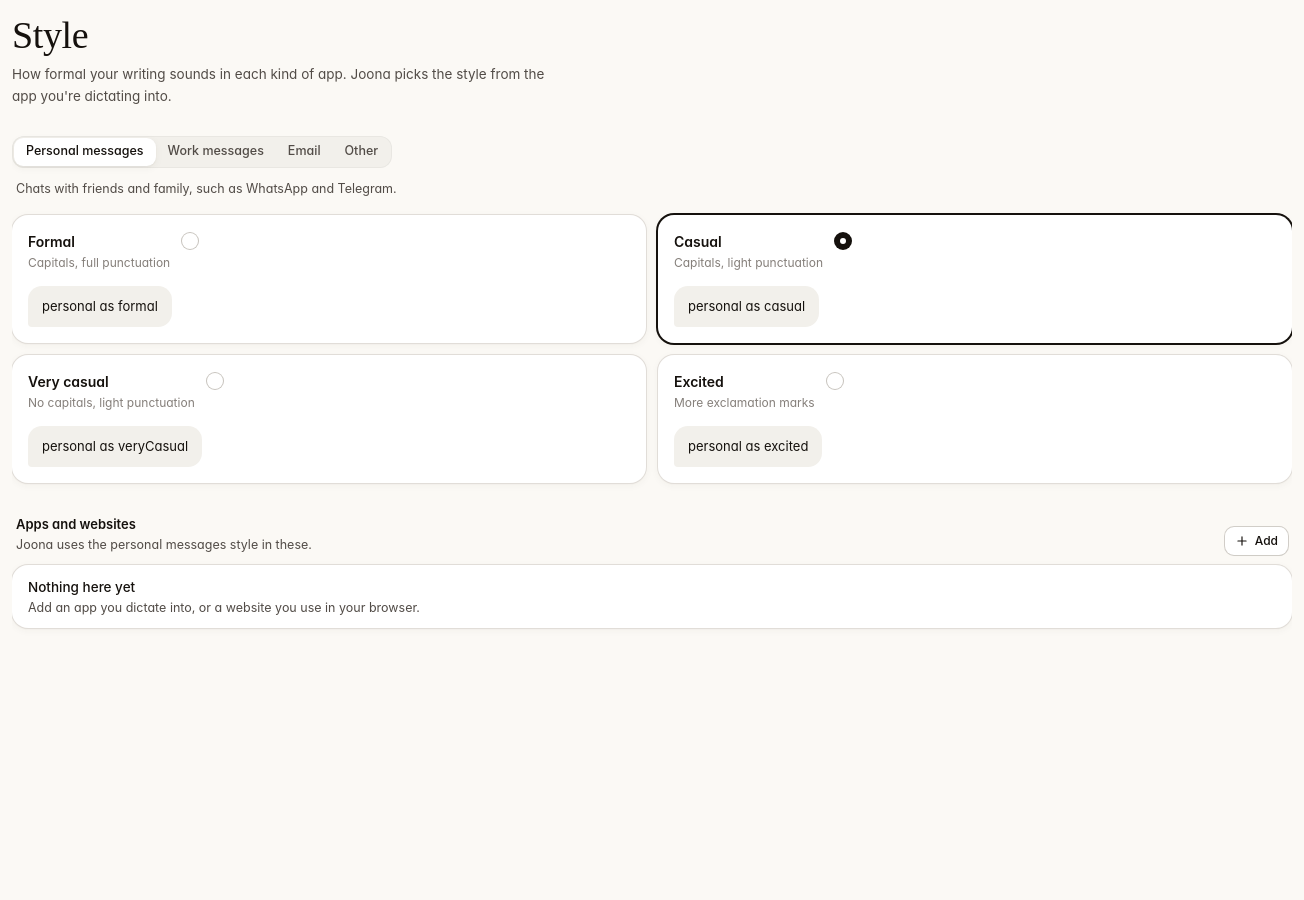
Test: Style › picks a tone for each kind of app
Expected: the text "personal as veryCasual" is shown, left=28, top=426, right=202, bottom=467
Click the radio button labelled "Excited More exclamation marks personal as excited" at x=699, y=381, box left=658, top=355, right=1292, bottom=483
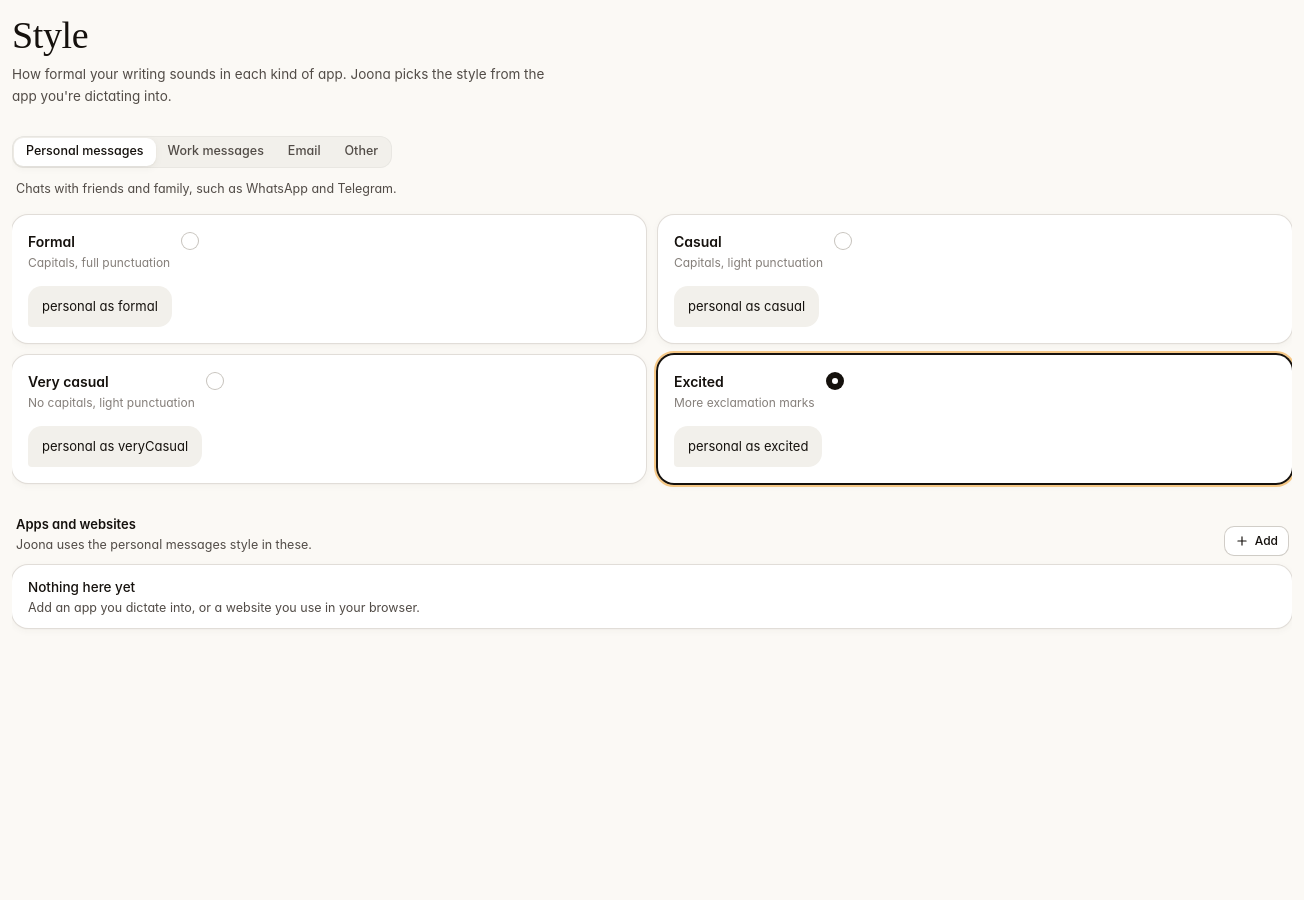
Expected: the radio button labelled "Excited More exclamation marks personal as excited" is checked, left=658, top=355, right=1292, bottom=483
Click the radio button labelled "Email" at x=304, y=152, box left=276, top=138, right=333, bottom=166
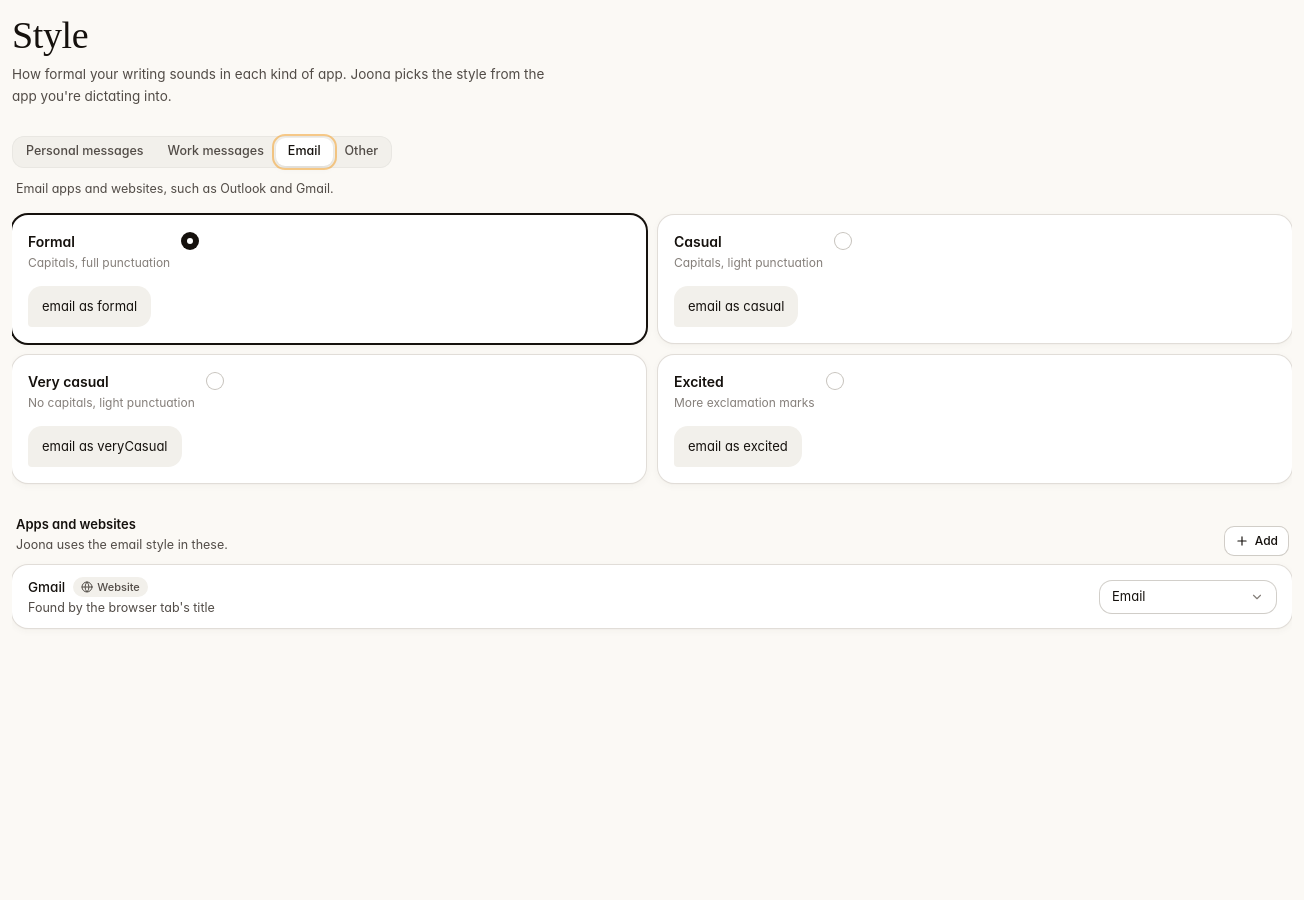
Expected: the text "Gmail" is shown, left=28, top=577, right=65, bottom=597
